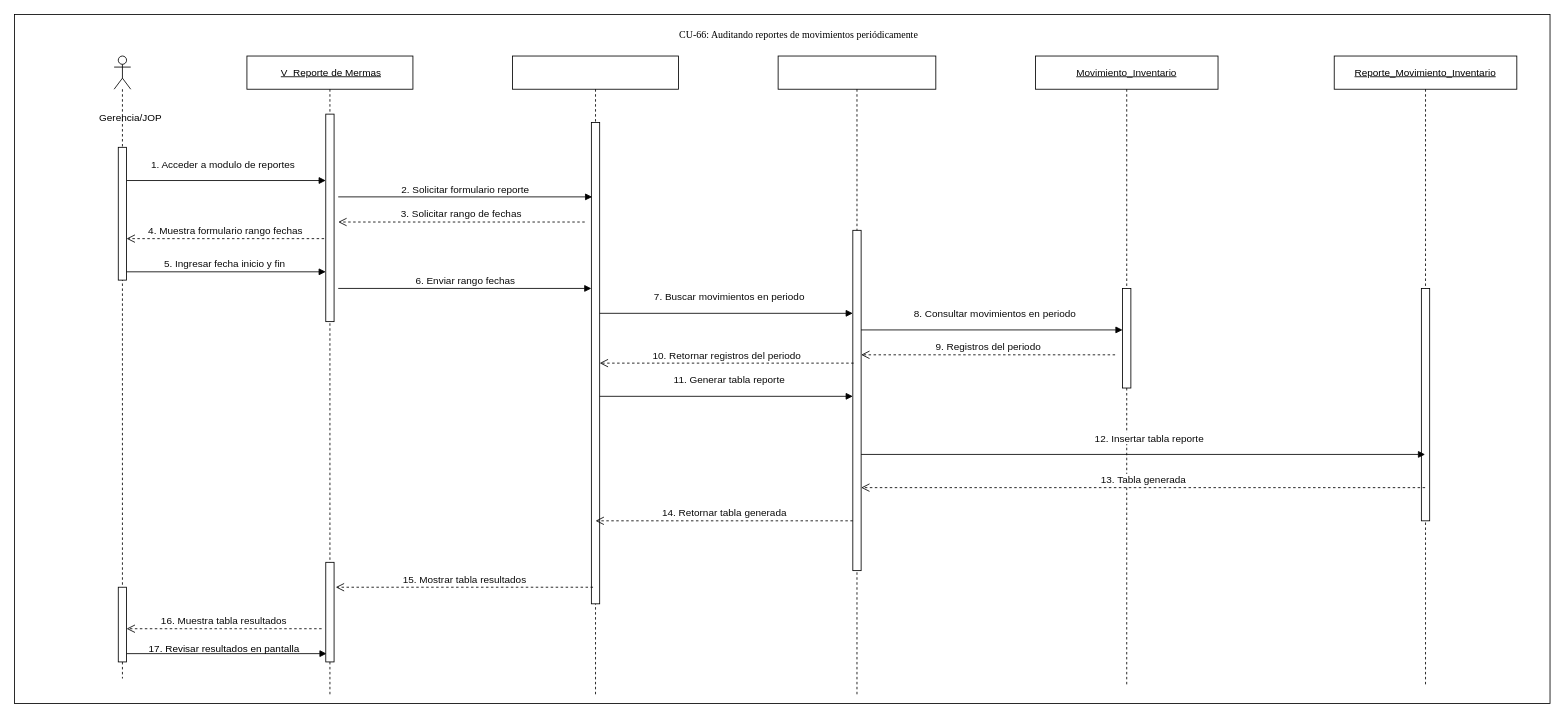
Image size: 1565x718. Some labels were removed from this diagram. Each missing label, with the box of its shape:
C_Postgre: (777, 55, 936, 695)
C_reportes: (512, 55, 679, 695)
